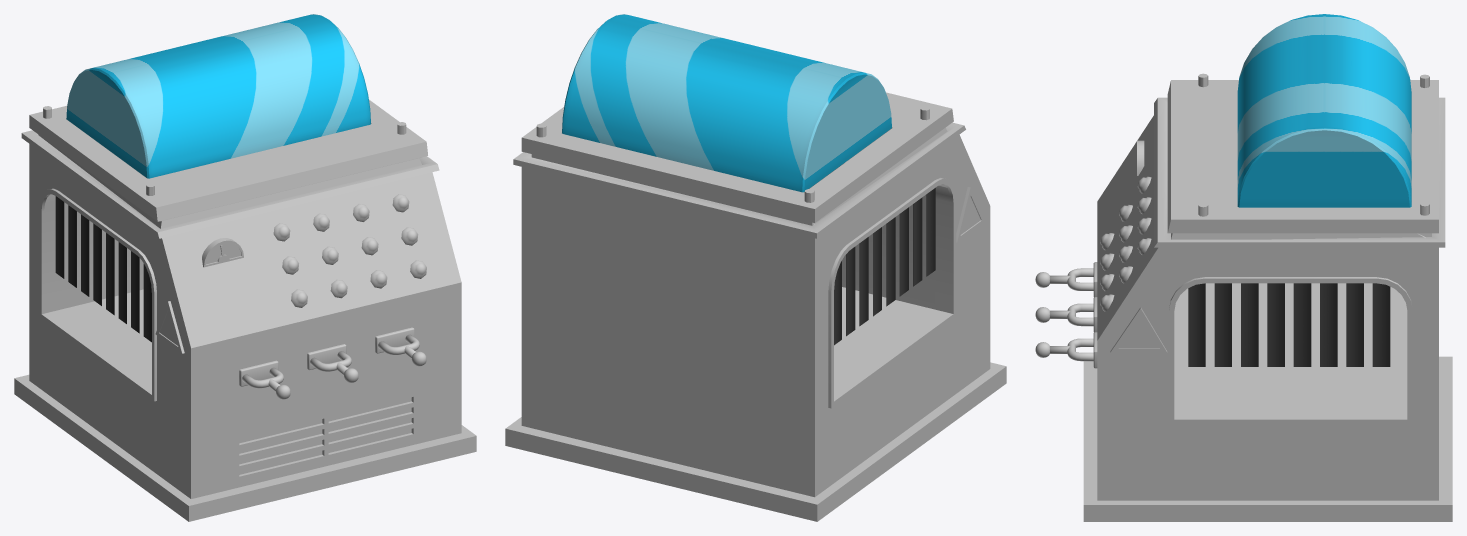
Rendered from Machine_v4_4.fbx.
3 views of the same model, side by side, from view 1: azimuth 30°, elevation 25°; view 2: azimuth 150°, elevation 25°; view 3: azimuth 270°, elevation 25° (orthographic). The views are drawn at different scales.
Parts seen in each view (by area): view 1: Machn_v4_4, Plane_v4_4, Machn_v4_4_Meter, Machn_v4_4_Button_Head_3, Machn_v4_4_Button_Head_2, Machn_v4_4_Button_Head_1, Machn_v4_4_Button_3, Machn_v4_4_Button_1, Machn_v4_4_Button_2; view 2: Machn_v4_4, Plane_v4_4; view 3: Machn_v4_4, Plane_v4_4_2, Machn_v4_4_Button_Head_1, Machn_v4_4_Button_Head_3, Machn_v4_4_Button_Head_2.
Boxes of the visible parts, box(x1,y1,x2,y2) form: Machn_v4_4: box(14, 14, 476, 521); Plane_v4_4: box(55, 196, 151, 342); Machn_v4_4_Meter: box(202, 238, 243, 267); Machn_v4_4_Button_Head_3: box(242, 367, 290, 399); Machn_v4_4_Button_Head_2: box(378, 334, 426, 366); Machn_v4_4_Button_Head_1: box(310, 351, 358, 382); Machn_v4_4_Button_3: box(239, 360, 278, 386); Machn_v4_4_Button_1: box(307, 344, 346, 370); Machn_v4_4_Button_2: box(375, 327, 414, 353); Machn_v4_4: box(505, 14, 1006, 521); Plane_v4_4: box(834, 188, 935, 345); Machn_v4_4: box(1083, 14, 1452, 521); Plane_v4_4_2: box(1188, 283, 1390, 366); Machn_v4_4_Button_Head_1: box(1035, 303, 1093, 326); Machn_v4_4_Button_Head_3: box(1035, 268, 1093, 290); Machn_v4_4_Button_Head_2: box(1035, 338, 1093, 361).
Bounding box in the file's own units: 263 × 311 × 312.
